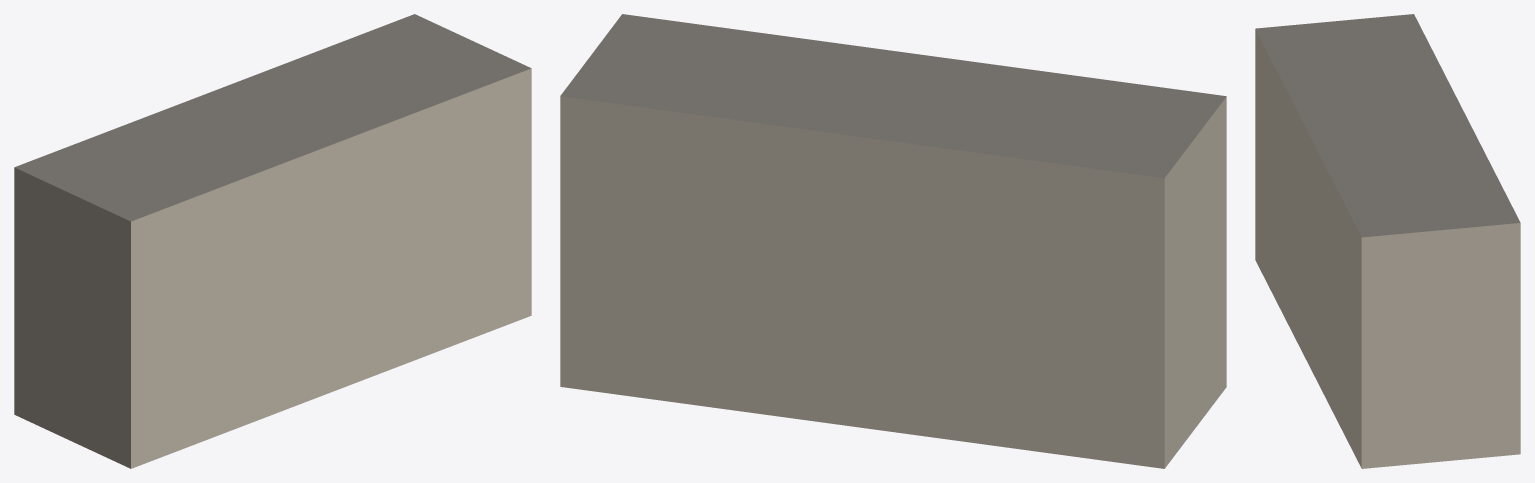
3 views of the same model, side by side, from view 1: azimuth 30°, elevation 25°; view 2: azimuth 150°, elevation 25°; view 3: azimuth 270°, elevation 25° (orthographic). The views are drawn at different scales.
Parts seen in each view (by area): view 1: HP-w1286965260; view 2: HP-w1286965260; view 3: HP-w1286965260.
Part boxes in pixels (left/top/right/bottom): HP-w1286965260: left=14, top=14, right=531, bottom=468; HP-w1286965260: left=560, top=14, right=1226, bottom=468; HP-w1286965260: left=1255, top=14, right=1520, bottom=468.
Bounding box in the file's own units: 37.28 × 18 × 18.7.
